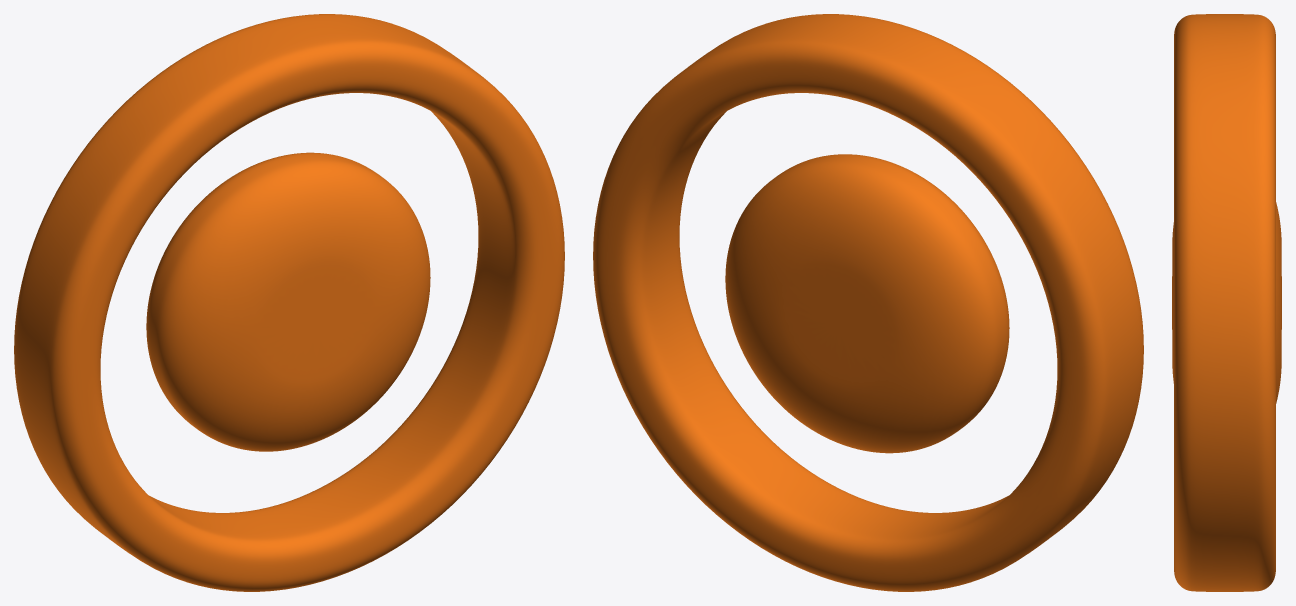
File: recording-animated-3d-icon-1254325577714.glb
3 views of the same model, side by side, from view 1: azimuth 30°, elevation 25°; view 2: azimuth 150°, elevation 25°; view 3: azimuth 270°, elevation 25° (orthographic). The views are drawn at different scales.
Parts seen in each view (by area): view 1: Circle, Cylinder; view 2: Circle, Cylinder; view 3: Circle, Cylinder.
Boxes of the visible parts, x1,y1,x2,y2 form: Circle: (14, 14, 564, 591); Cylinder: (146, 152, 430, 451); Circle: (593, 14, 1143, 591); Cylinder: (725, 154, 1009, 453); Circle: (1174, 14, 1275, 591); Cylinder: (1172, 202, 1281, 403).
Bounding box in the file's own units: 1.99 × 1.99 × 0.3772.
